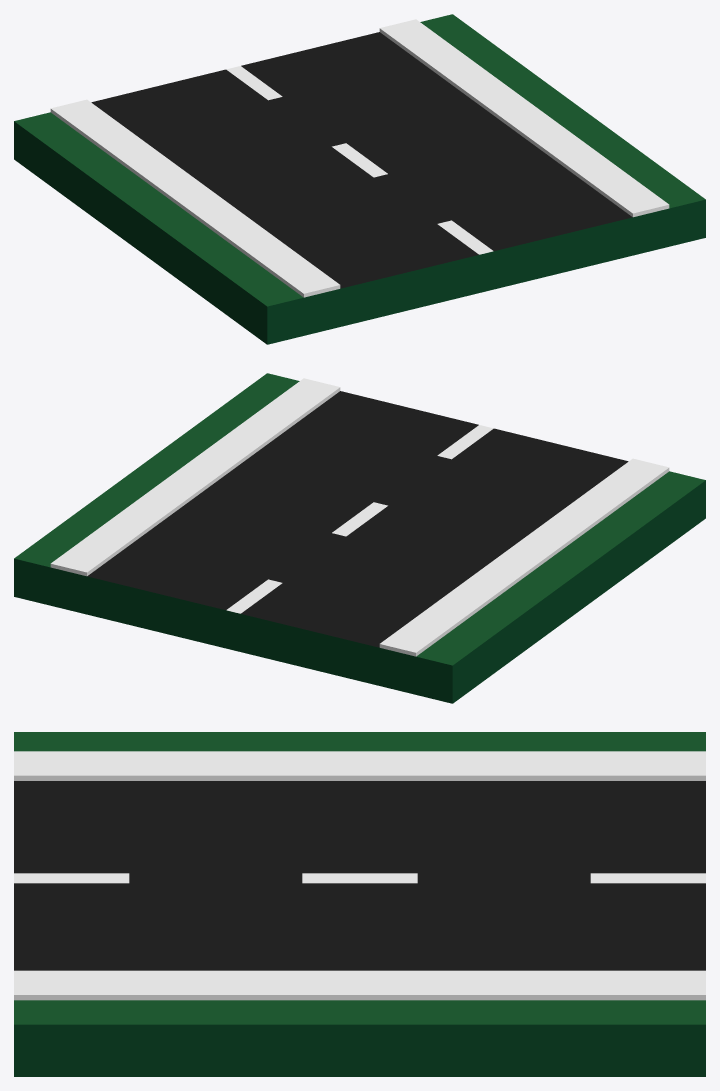
File: straight.obj
The picture shows the model from 3 angles, top to bottom: view 1: azimuth 30°, elevation 25°; view 2: azimuth 150°, elevation 25°; view 3: azimuth 270°, elevation 25°; orthographic projection. The views are drawn at different scales.
Visible parts, largest first — view 1: straightroad_Cube.046; view 2: straightroad_Cube.046; view 3: straightroad_Cube.046.
Part boxes in pixels (bbox=[...]): straightroad_Cube.046: bbox=[14, 14, 705, 344]; straightroad_Cube.046: bbox=[14, 373, 705, 703]; straightroad_Cube.046: bbox=[14, 732, 705, 1076].
Size of the model in its own units: 12 by 1.1 by 12.
1 material, 1 textured.
